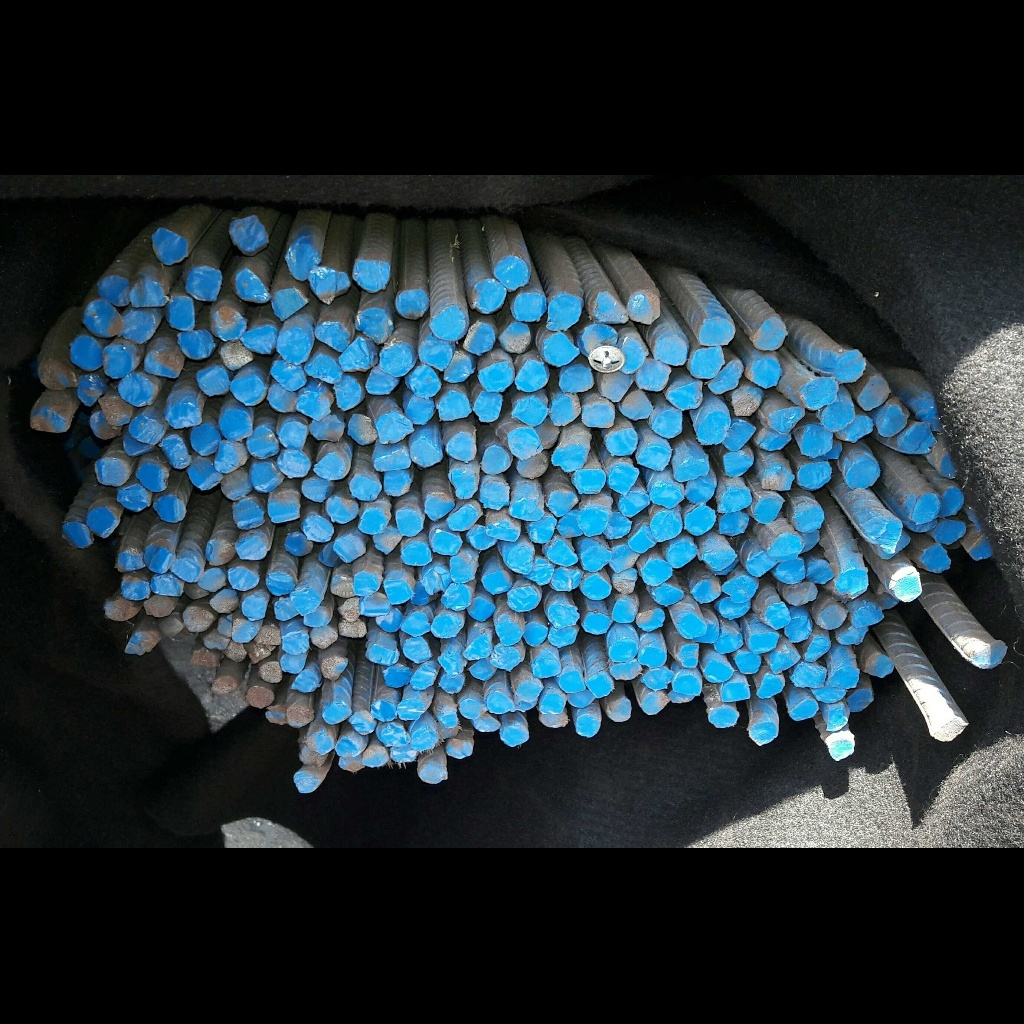dipstick: (230, 215, 269, 256), (308, 268, 351, 304), (83, 299, 121, 338), (232, 269, 272, 304), (152, 227, 189, 264), (580, 325, 618, 360), (339, 336, 379, 369), (185, 266, 222, 301), (37, 358, 76, 391), (276, 328, 312, 363), (472, 278, 507, 314), (635, 355, 670, 391), (430, 306, 467, 340), (118, 373, 156, 406), (286, 243, 319, 281), (542, 333, 578, 367), (376, 412, 413, 445), (270, 288, 307, 321), (356, 308, 393, 341), (69, 336, 103, 371), (210, 307, 245, 341), (418, 337, 453, 371), (867, 518, 902, 552), (354, 259, 390, 292), (507, 426, 543, 459), (494, 256, 530, 289), (548, 294, 581, 330), (707, 360, 743, 393), (598, 371, 636, 402), (188, 456, 222, 490), (695, 411, 729, 445), (592, 292, 628, 324), (803, 377, 839, 409), (478, 361, 513, 393), (160, 434, 191, 470), (305, 354, 342, 384), (667, 381, 704, 411), (744, 358, 781, 388), (130, 279, 169, 307), (30, 405, 69, 433), (122, 309, 155, 342), (215, 440, 247, 474), (271, 360, 306, 391), (512, 396, 547, 427), (890, 566, 921, 601), (178, 329, 214, 359), (617, 338, 647, 374), (246, 427, 279, 459), (443, 351, 476, 383), (629, 290, 661, 323), (97, 275, 131, 306), (298, 390, 332, 421), (580, 538, 611, 572), (767, 407, 806, 434), (166, 295, 196, 330), (380, 345, 415, 375), (95, 456, 131, 485), (558, 363, 594, 392), (447, 502, 484, 530), (232, 373, 265, 404), (464, 322, 495, 355), (515, 359, 548, 390), (800, 424, 831, 457), (754, 318, 785, 351), (858, 376, 889, 409), (310, 414, 344, 444), (846, 459, 880, 489), (901, 423, 935, 453), (145, 350, 181, 378), (409, 366, 441, 397), (405, 393, 436, 425), (500, 321, 531, 353), (724, 418, 755, 450), (877, 404, 908, 436), (103, 345, 133, 378), (439, 390, 472, 420), (732, 384, 762, 417), (242, 325, 276, 354), (701, 541, 735, 570), (700, 317, 734, 346), (86, 506, 117, 537), (448, 468, 479, 499), (503, 542, 534, 573), (190, 424, 222, 454), (550, 393, 580, 425), (581, 398, 613, 428), (621, 390, 653, 420), (692, 346, 722, 378), (232, 500, 265, 529), (219, 341, 252, 370), (513, 293, 546, 322), (655, 336, 688, 365), (130, 416, 164, 444), (334, 376, 362, 410), (510, 494, 545, 521), (723, 576, 758, 603), (167, 402, 203, 428), (123, 630, 162, 654), (551, 445, 587, 471), (252, 462, 283, 492), (446, 431, 476, 462), (317, 321, 348, 351), (481, 445, 512, 475), (608, 464, 639, 494), (137, 462, 169, 491), (268, 494, 300, 523), (220, 410, 252, 439), (577, 507, 609, 536), (835, 568, 867, 597), (768, 533, 805, 558), (89, 410, 122, 438), (333, 534, 366, 562), (396, 290, 429, 318), (117, 484, 151, 511), (409, 439, 443, 466), (650, 481, 685, 507), (472, 392, 502, 422), (267, 383, 298, 412), (651, 512, 682, 541), (685, 506, 716, 535), (835, 350, 864, 381), (100, 397, 132, 425), (154, 494, 186, 522), (278, 449, 310, 477), (314, 451, 346, 479), (197, 367, 229, 395), (821, 402, 853, 430), (366, 367, 399, 394), (374, 448, 411, 472), (572, 469, 606, 495), (792, 663, 826, 689), (933, 716, 967, 742), (348, 414, 377, 444), (480, 480, 509, 510), (653, 408, 683, 437), (793, 503, 823, 532), (439, 646, 467, 677), (349, 474, 380, 502), (609, 544, 640, 572), (911, 492, 939, 523), (77, 374, 104, 406), (666, 541, 698, 568), (798, 462, 830, 489), (376, 722, 409, 748), (326, 497, 359, 523), (974, 641, 1007, 667), (783, 581, 817, 606), (548, 488, 577, 517), (222, 471, 252, 499), (920, 544, 950, 572), (62, 521, 93, 548), (440, 583, 471, 610), (606, 428, 637, 455), (508, 585, 540, 611), (639, 445, 671, 471), (517, 453, 550, 478), (279, 422, 308, 450), (468, 521, 497, 549), (629, 524, 657, 553), (144, 546, 174, 573), (685, 475, 715, 502), (481, 570, 512, 596), (938, 486, 964, 517), (235, 534, 267, 559), (431, 530, 463, 555), (618, 492, 650, 517), (720, 487, 752, 512), (487, 518, 520, 542), (547, 603, 580, 627), (171, 555, 199, 583), (425, 492, 453, 520), (604, 511, 632, 539), (293, 586, 320, 615), (373, 526, 400, 555), (383, 469, 412, 496), (303, 516, 333, 542), (357, 508, 387, 534), (762, 465, 792, 491), (183, 606, 214, 631), (546, 540, 577, 565), (642, 559, 673, 584), (367, 641, 399, 665), (302, 477, 334, 501), (580, 575, 612, 599), (757, 427, 790, 450), (396, 509, 424, 536), (450, 555, 477, 583), (528, 517, 555, 545), (755, 495, 783, 522), (383, 578, 412, 604), (491, 644, 520, 670), (552, 566, 581, 592), (747, 551, 776, 577), (401, 611, 431, 636), (724, 451, 754, 476), (770, 648, 800, 673), (401, 541, 432, 565), (639, 692, 670, 716), (611, 568, 638, 595), (207, 539, 235, 565), (402, 637, 431, 662), (691, 578, 720, 603), (775, 558, 804, 583), (122, 576, 152, 600), (817, 605, 847, 629), (432, 614, 463, 637), (703, 659, 734, 682), (211, 588, 238, 614), (376, 606, 403, 632), (803, 636, 830, 662), (231, 617, 259, 642), (411, 725, 439, 750), (464, 635, 492, 660), (532, 651, 560, 676), (749, 721, 777, 746), (674, 460, 709, 480), (322, 701, 351, 725), (515, 678, 544, 702), (864, 653, 893, 677), (548, 625, 578, 648), (641, 667, 672, 689), (496, 620, 523, 645), (679, 613, 706, 638), (785, 616, 810, 643), (757, 673, 784, 698), (501, 723, 529, 747), (806, 559, 834, 583), (228, 568, 258, 590), (150, 575, 183, 595), (708, 705, 738, 727), (749, 632, 779, 654), (853, 605, 883, 627), (720, 596, 751, 617), (287, 704, 314, 728), (360, 592, 387, 616), (486, 690, 513, 714), (586, 672, 613, 696), (938, 520, 965, 544), (836, 625, 870, 644), (199, 568, 227, 591), (104, 596, 132, 619), (285, 533, 313, 556), (307, 731, 335, 754), (320, 657, 348, 680), (720, 511, 748, 534), (144, 594, 173, 616), (281, 632, 310, 654), (246, 686, 275, 708), (469, 658, 498, 680), (636, 609, 665, 631), (608, 639, 637, 661), (559, 669, 585, 693), (607, 696, 631, 722), (734, 650, 760, 674), (398, 697, 425, 720), (584, 612, 611, 635), (538, 691, 565, 714), (847, 689, 874, 712), (266, 573, 294, 595), (439, 672, 467, 694), (608, 662, 642, 680), (418, 762, 447, 783), (721, 681, 750, 702), (789, 699, 818, 720), (829, 667, 858, 688), (242, 594, 266, 619), (117, 549, 143, 572), (385, 665, 411, 688), (311, 627, 338, 649), (639, 646, 666, 668), (673, 675, 701, 696), (330, 574, 354, 598), (766, 603, 790, 627), (294, 770, 319, 793), (354, 571, 377, 596), (524, 621, 547, 646), (612, 600, 637, 623), (371, 700, 397, 722), (469, 598, 495, 620), (293, 670, 320, 691), (275, 597, 298, 621), (576, 714, 600, 737), (826, 707, 849, 731), (363, 746, 389, 767), (410, 668, 436, 689), (446, 738, 473, 758), (716, 633, 743, 653), (338, 619, 366, 638), (969, 539, 993, 561), (678, 643, 699, 668), (829, 740, 854, 761), (654, 586, 683, 604), (338, 598, 361, 620), (336, 737, 361, 757), (459, 698, 485, 717), (261, 661, 283, 683), (281, 653, 306, 672), (212, 676, 238, 694)
